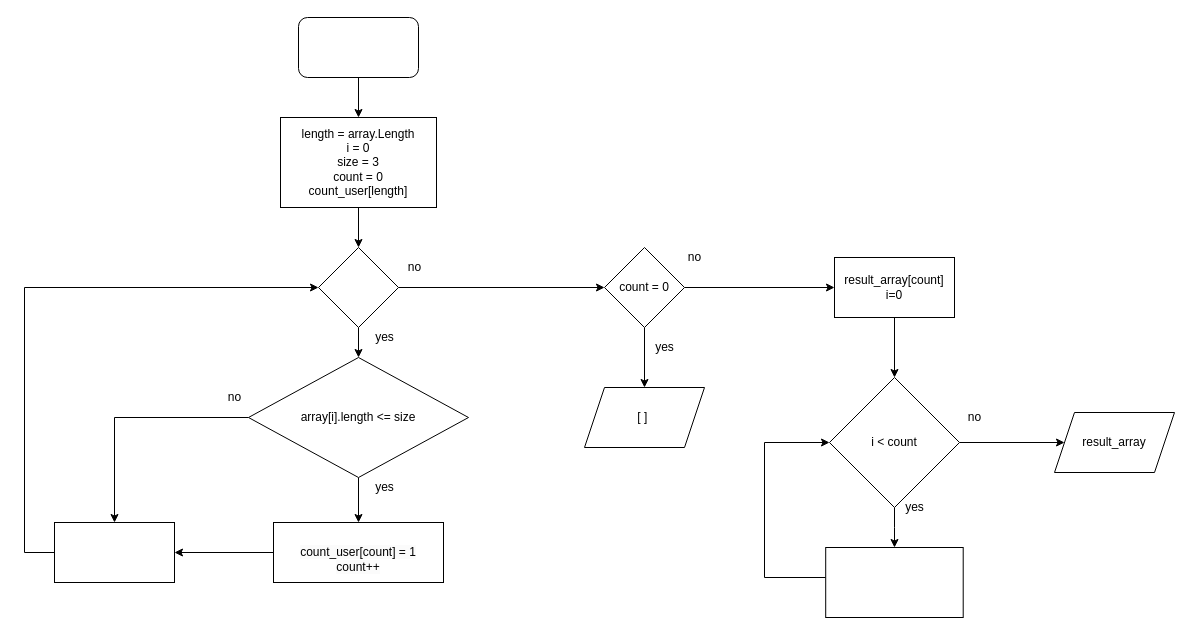
The diagram is 1192 pixels wide and 635 high, and some of its shapes have lost their labels. The centre of each missing label's shape, as x and y in pixels:
"array[ ]" goes at [358,47].
"i < length" goes at [358,287].
"i++" goes at [114,552].
"result_array[i] = array[count_user[i]]" goes at [894,582].
